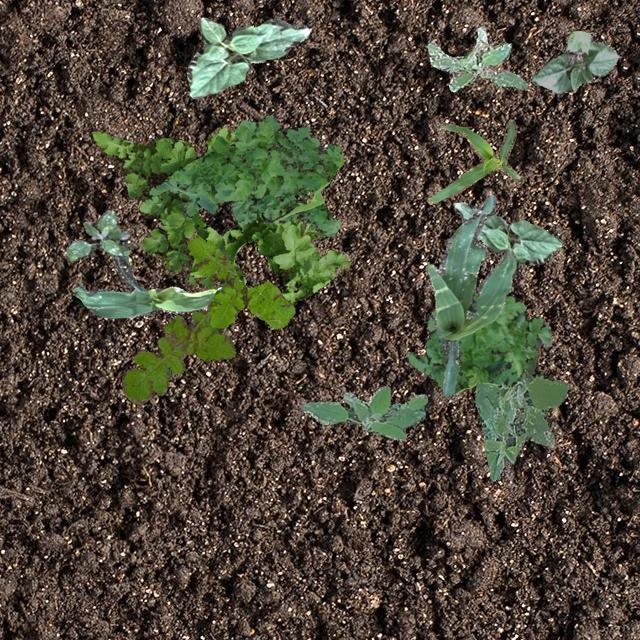crop: (426, 194, 512, 396), (72, 240, 220, 318), (186, 17, 310, 98), (452, 200, 562, 278), (426, 118, 520, 202), (530, 30, 618, 94)
weed: (88, 125, 350, 304), (148, 114, 342, 235), (404, 294, 550, 392), (122, 286, 235, 404), (473, 358, 568, 480), (185, 232, 294, 328), (300, 386, 426, 438), (426, 26, 526, 90), (64, 208, 130, 260)
